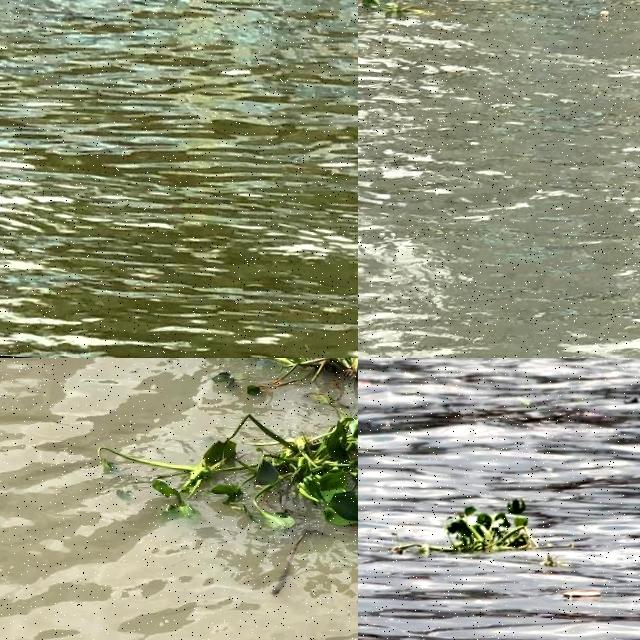water-hyacinth: (102, 377, 359, 527), (402, 487, 547, 564), (359, 1, 413, 17)
